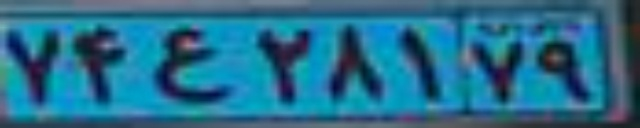1: (395, 25, 445, 105)
2: (254, 28, 311, 107)
4: (70, 24, 131, 107)
7: (5, 26, 65, 108), (466, 38, 525, 104)
8: (321, 22, 385, 103)
9: (538, 42, 589, 103)
ain: (152, 28, 233, 103)
